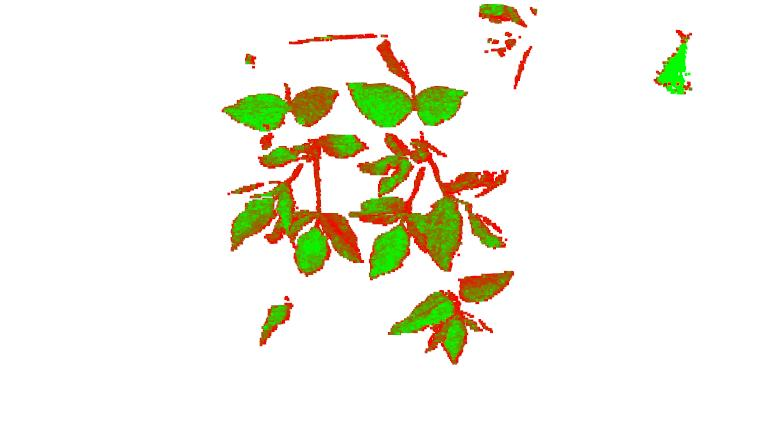mungbean: (365, 40, 551, 279), (219, 76, 364, 280), (387, 272, 520, 367)
